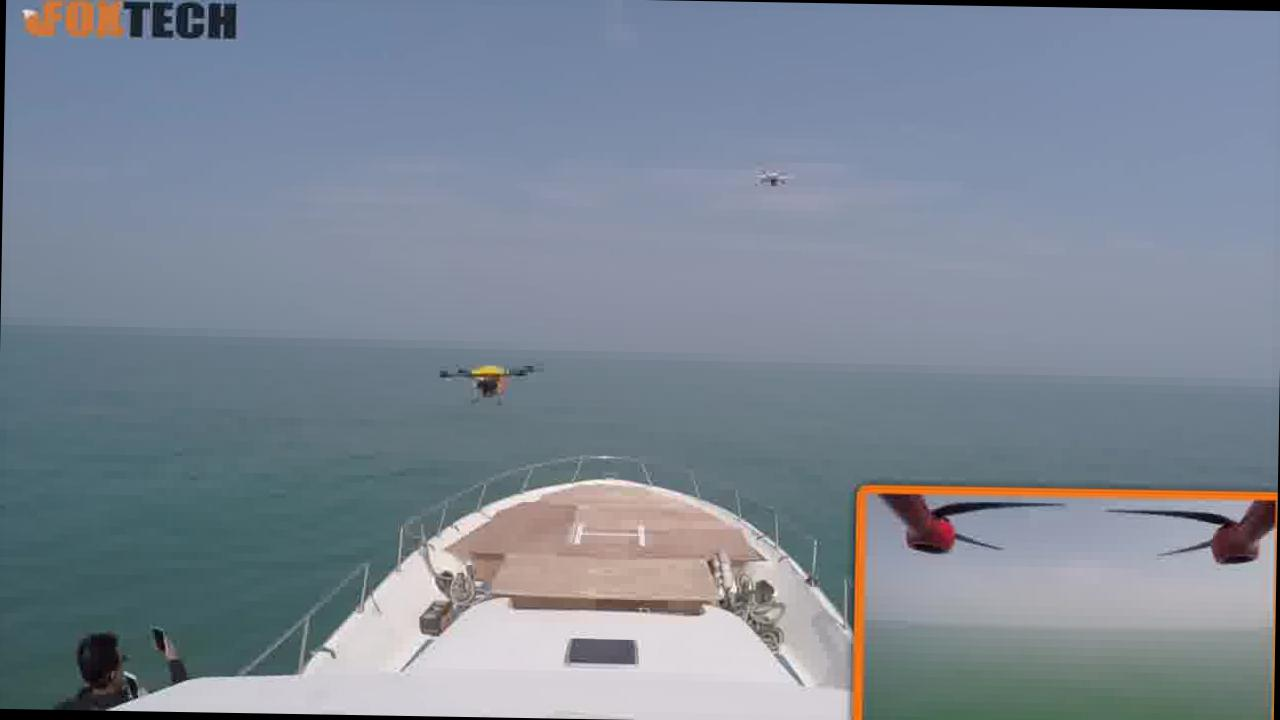drone: (427, 354, 554, 414), (728, 165, 804, 190)
